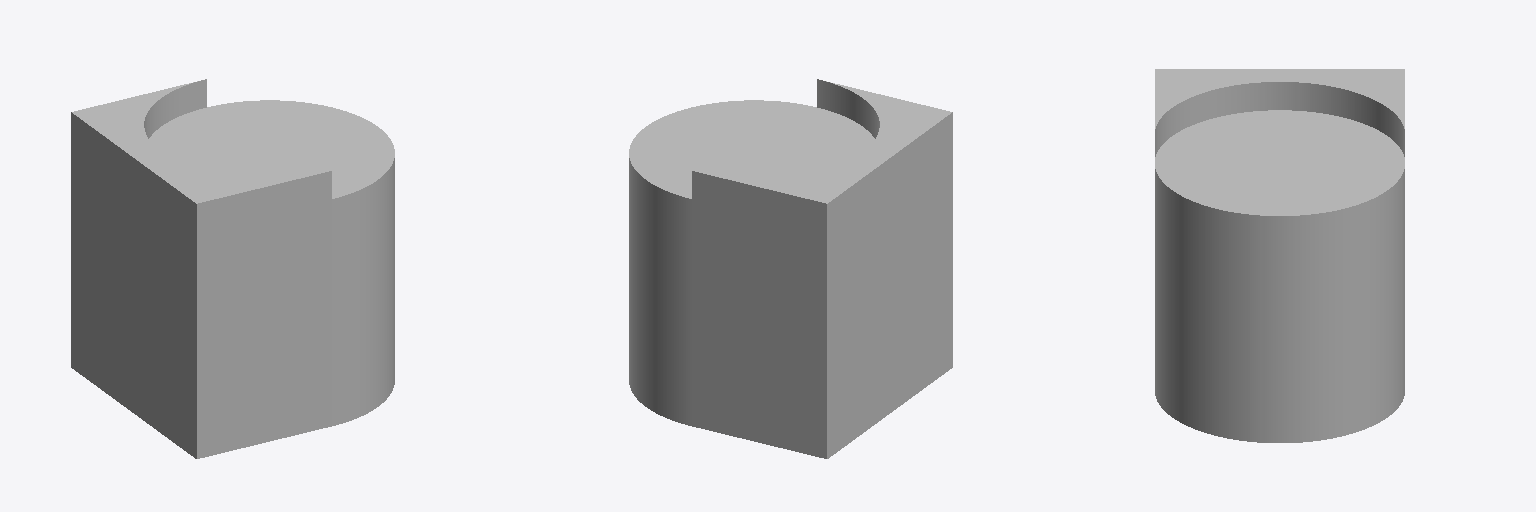
Rendered from Bone0.obj.
3 renders of one model, left to right at view 1: azimuth 30°, elevation 25°; view 2: azimuth 150°, elevation 25°; view 3: azimuth 270°, elevation 25°, orthographic.
Parts seen in each view (by area): view 1: Bone0; view 2: Bone0; view 3: Bone0.
Boxes of the visible parts, box(x1,y1,x2,y2) form: Bone0: box(71, 79, 394, 458); Bone0: box(629, 79, 952, 458); Bone0: box(1155, 69, 1404, 442).
Size of the model in its own units: 225 by 225 by 200.